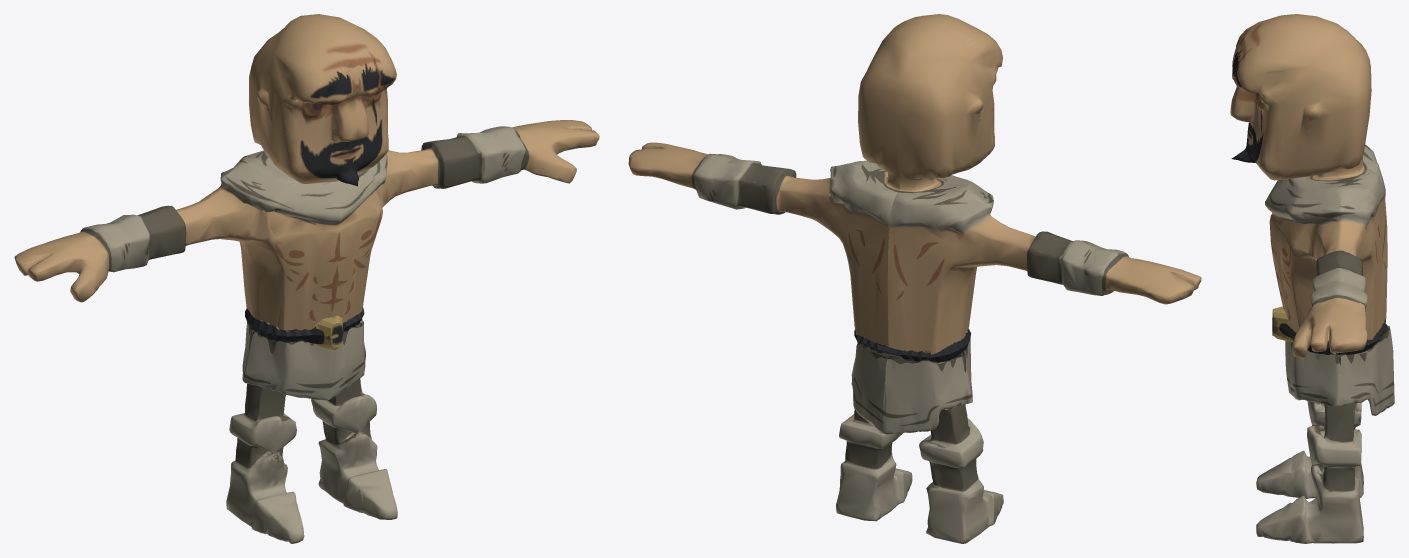
The model's file is SPARTANO1.obj.
The picture shows the model from 3 angles, left to right: view 1: azimuth 30°, elevation 25°; view 2: azimuth 150°, elevation 25°; view 3: azimuth 270°, elevation 25°; orthographic projection. The views are drawn at different scales.
Parts seen in each view (by area): view 1: Mesh1; view 2: Mesh1; view 3: Mesh1.
Part boxes in pixels (x1,y1,x2,y2): Mesh1: (14, 14, 599, 543); Mesh1: (628, 14, 1201, 543); Mesh1: (1230, 14, 1394, 543).
Size of the model in its own units: 1.91 by 1.59 by 0.4803.
1 material, 1 textured.
